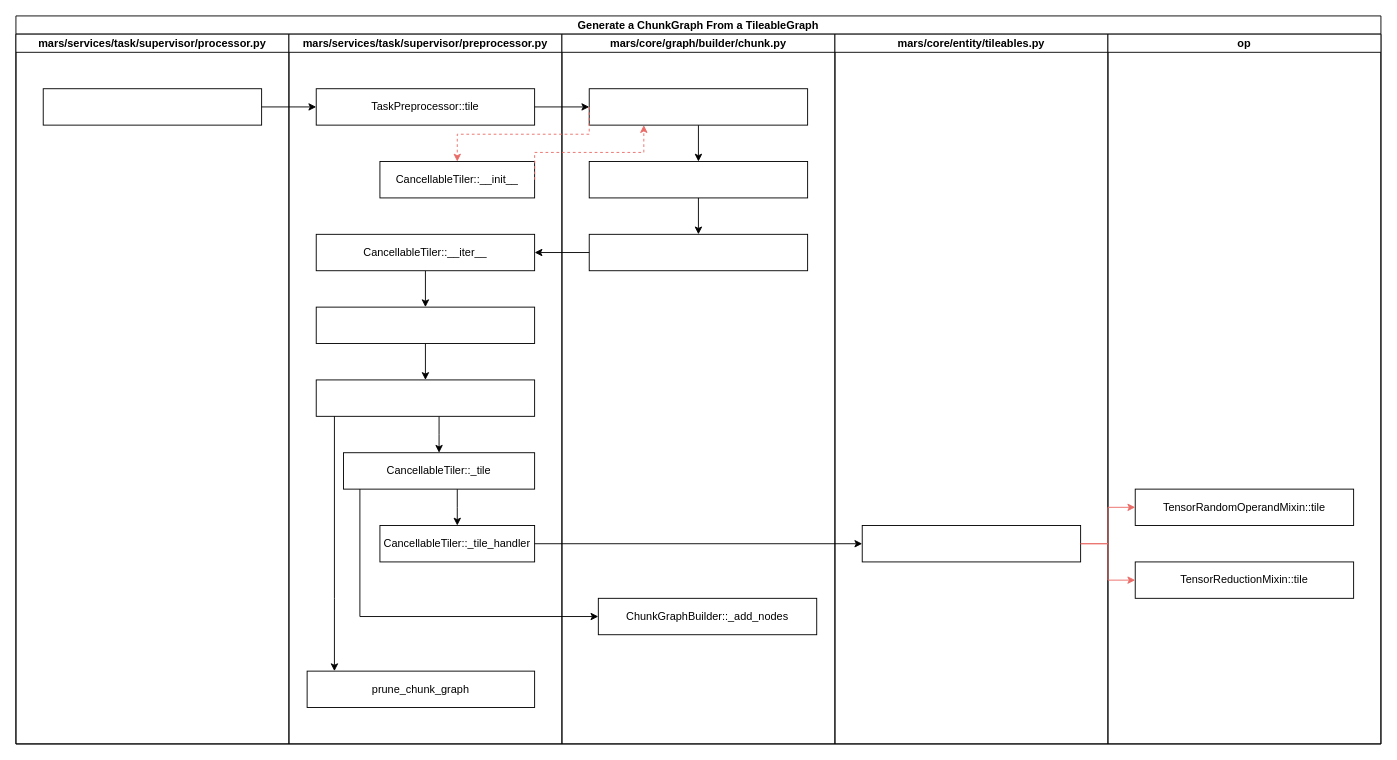
This 1397x760 diagram has some shape labels left out. The centre of each missing label's shape, as x and y in pixels:
"CancellableTiler::_iter" belongs at point 425,397.
"CancellableTiler::_iter_without_check" belongs at point 425,325.
"ChunkGraphBuilder::__init__" belongs at point 698,106.
"ChunkGraphBuilder::_build" belongs at point 698,252.
"ChunkGraphBuilder::build" belongs at point 698,179.
"OperandTilesHandler::tile" belongs at point 971,543.
"TaskProcessor::_iter_stage_chunk_graph" belongs at point 152,106.
